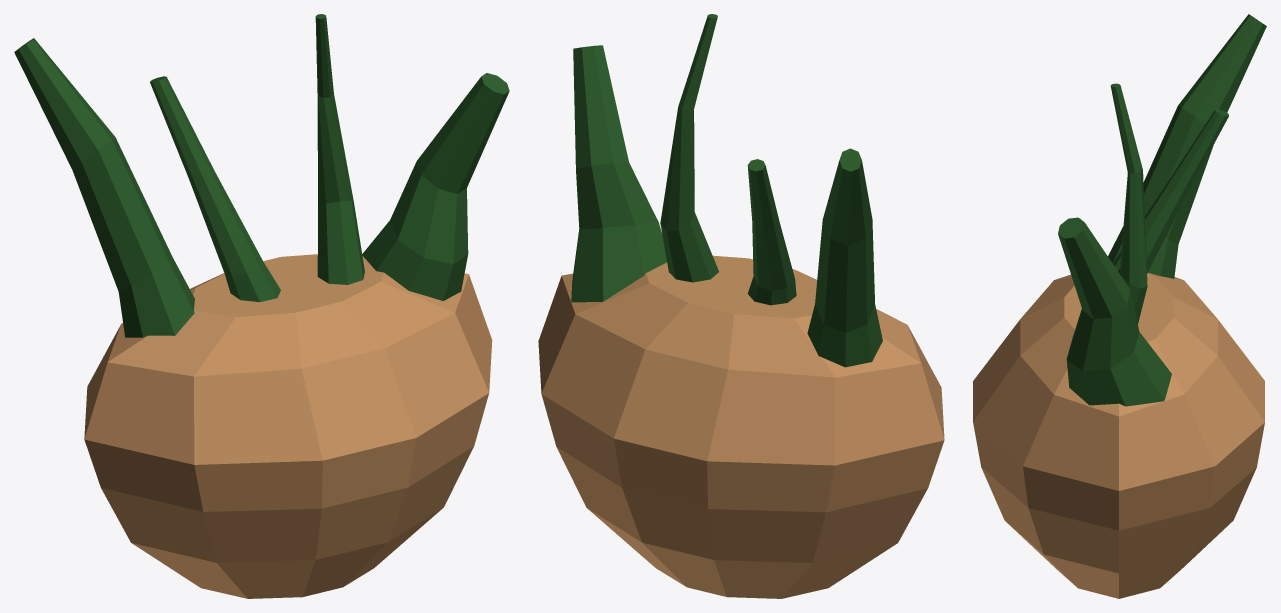
The model's file is Bush_Fenchel_02.fbx.
3 renders of one model, left to right at view 1: azimuth 30°, elevation 25°; view 2: azimuth 150°, elevation 25°; view 3: azimuth 270°, elevation 25°, orthographic. The views are drawn at different scales.
Parts seen in each view (by area): view 1: Cube.001; view 2: Cube.001; view 3: Cube.001.
Boxes of the visible parts, box(x1,y1,x2,y2) form: Cube.001: box(14, 14, 509, 598); Cube.001: box(538, 14, 944, 598); Cube.001: box(973, 14, 1266, 598).
Bounding box in the file's own units: 171 × 218 × 119.
